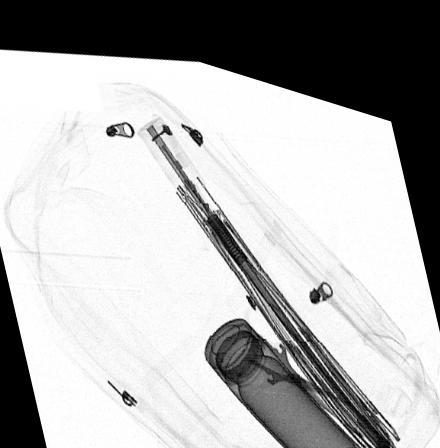Scissors: (212, 289, 374, 412)
